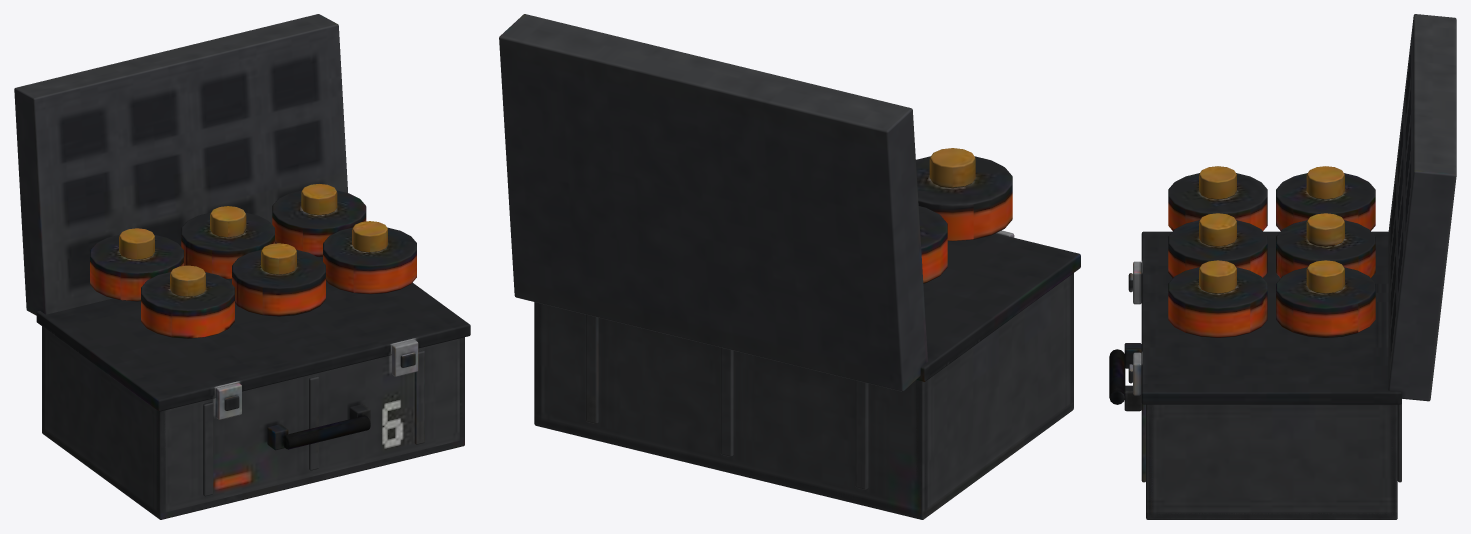
The model's file is filter_case.glb.
3 views of the same model, side by side, from view 1: azimuth 30°, elevation 25°; view 2: azimuth 150°, elevation 25°; view 3: azimuth 270°, elevation 25° (orthographic). The views are drawn at different scales.
Visible parts, largest first — view 1: filter_case; view 2: filter_case; view 3: filter_case.
Part boxes in pixels (box(x1,y1,x2,y2)): filter_case: box(14, 14, 470, 519); filter_case: box(499, 14, 1080, 519); filter_case: box(1109, 14, 1456, 519).
Bounding box in the file's own units: 0.532 × 0.5419 × 0.4829.
1 material, 1 textured.
